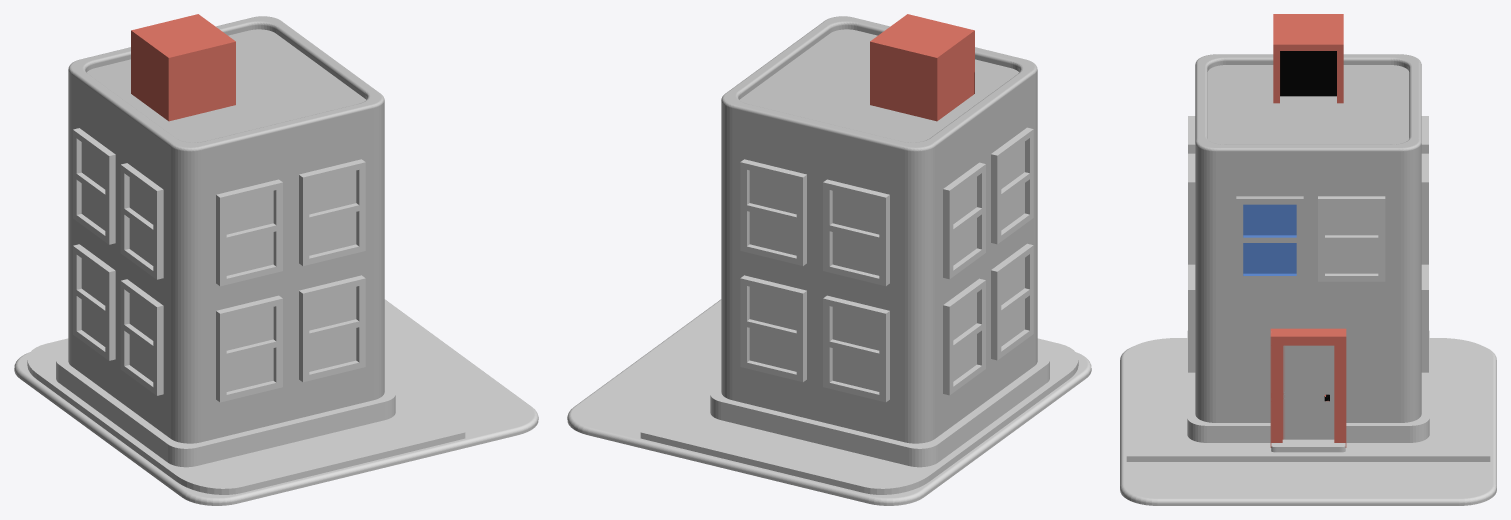
The model's file is Office.fbx.
3 renders of one model, left to right at view 1: azimuth 30°, elevation 25°; view 2: azimuth 150°, elevation 25°; view 3: azimuth 270°, elevation 25°, orthographic. The views are drawn at different scales.
Visible parts, largest first — view 1: MainBuilding, Ground, Grass, Rooftop, Holder, Window.009, Window.006, Window.007, Window.008, Window.012, Window.011, Window.010 (+1 smaller); view 2: MainBuilding, Ground, Grass, Rooftop, Holder, Window.004, Window.005, Window.003, Window.002, Window.013, Window.010, Window.011 (+1 smaller); view 3: MainBuilding, Grass, Ground, Door, Rooftop, Window, Window.001, Holder, Enterence, Window.002, Window.008, Window.005 (+1 smaller).
Part boxes in pixels (x1,y1,x2,y2): MainBuilding: [68, 16, 384, 443]; Ground: [14, 299, 538, 505]; Grass: [27, 338, 465, 494]; Rooftop: [131, 14, 235, 121]; Holder: [56, 352, 395, 467]; Window.009: [216, 179, 282, 286]; Window.006: [216, 295, 282, 402]; Window.007: [299, 275, 365, 382]; Window.008: [299, 159, 365, 265]; Window.012: [120, 279, 163, 395]; Window.011: [120, 163, 163, 279]; Window.010: [73, 128, 115, 244]; MainBuilding: [721, 16, 1037, 443]; Ground: [567, 299, 1091, 505]; Grass: [640, 338, 1078, 494]; Rooftop: [870, 14, 974, 121]; Holder: [710, 352, 1049, 467]; Window.004: [823, 295, 889, 402]; Window.005: [740, 275, 806, 381]; Window.003: [823, 179, 889, 286]; Window.002: [740, 159, 806, 265]; Window.013: [943, 278, 985, 395]; Window.010: [943, 162, 985, 279]; Window.011: [991, 127, 1033, 244]; MainBuilding: [1195, 54, 1421, 422]; Grass: [1126, 338, 1490, 461]; Ground: [1120, 346, 1496, 505]; Door: [1270, 328, 1346, 447]; Rooftop: [1273, 14, 1343, 103]; Window: [1236, 196, 1303, 281]; Window.001: [1318, 196, 1385, 281]; Holder: [1187, 330, 1429, 442]; Enterence: [1271, 439, 1345, 452]; Window.002: [1421, 153, 1428, 264]; Window.008: [1188, 153, 1195, 264]; Window.005: [1421, 264, 1428, 372].
Size of the model in its own units: 3000 by 3118 by 3000.
